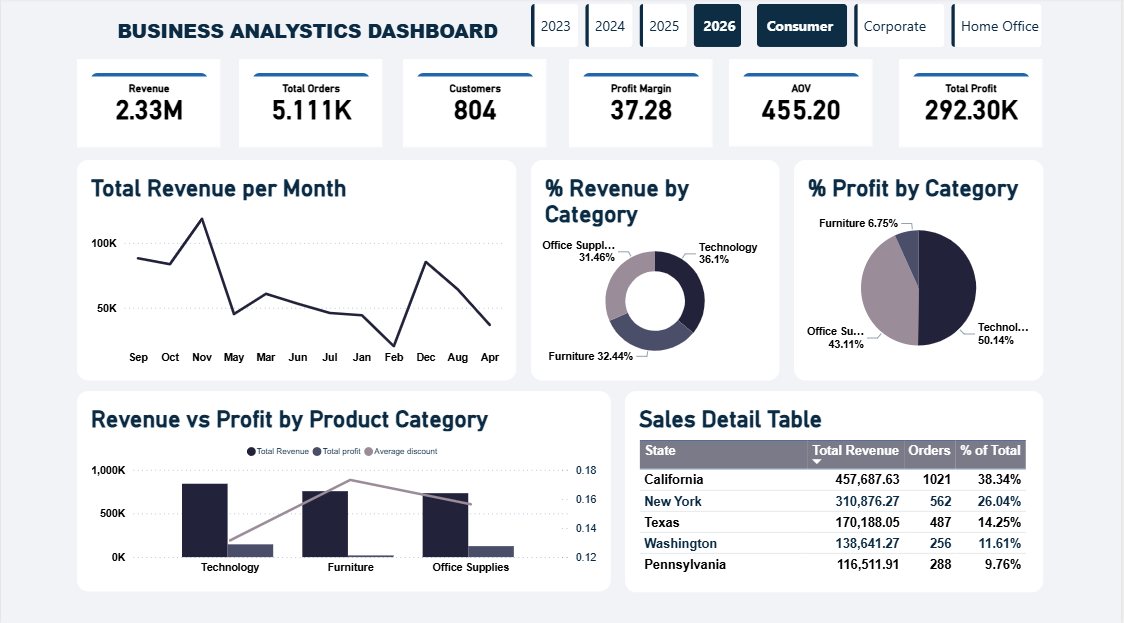

What the dashboard file says about the page in this screenshot:
{"tool":"powerbi","page":{"name":"Page 1","canvas":[1280,720],"ordinal":0},"visuals":[{"type":"cardVisual","fields":{"Data":["Sum(Total Revenue Overview.total_orders)"]},"box":[272,70.6,164.4,100.7],"z":0},{"type":"cardVisual","fields":{"Data":["Sum(Total Revenue Overview.total_customers)"]},"box":[459.5,70.6,164.4,100.7],"z":1000},{"type":"cardVisual","fields":{"Data":["Sum(Total Revenue Overview.total_revenue)"]},"box":[86.8,70.6,164.4,100.7],"z":2000},{"type":"cardVisual","fields":{"Data":["Sum(Total Revenue Overview.avg_order_value)"]},"box":[831.5,70.7,164.5,100.2],"z":3000},{"type":"lineChart","title":"Total Revenue per Month","fields":{"Category":["Sales by Month (Trending).month"],"Y":["Sum(Sales by Month (Trending).monthly_revenue)"]},"box":[86.8,186.4,502.4,252.3],"z":4000},{"type":"pieChart","title":"% Profit by Category","fields":{"Category":["Profitability.category"],"Y":["Sum(Profitability.total_profit)"]},"box":[906.4,186.4,284.8,252.3],"z":5000},{"type":"donutChart","title":"% Revenue by Category","fields":{"Category":["Profitability.category"],"Y":["Sum(Profitability.total_revenue)"]},"box":[605.4,186.4,283.6,252.3],"z":6000},{"type":"tableEx","title":"Sales Detail Table","fields":{"Values":["Sales by Region.state_province","Sum(Sales by Region.total_revenue)","Sum(Sales by Region.order_count)","Divide(Sum(Sales by Region.total_revenue), ScopedEval(Sum(Sales by Region.total_revenue), []))"]},"box":[713.1,450.3,477.7,229.7],"z":7000},{"type":"cardVisual","fields":{"Data":["Sum(Profitability.profit_margin_percent)"]},"box":[649.4,70.6,164.4,100.7],"z":8000},{"type":"lineClusteredColumnComboChart","title":"Revenue vs Profit by Product Category","fields":{"Category":["Profitability.category"],"Y":["Sum(Profitability.total_revenue)","Sum(Profitability.total_profit)"],"Y2":["Sum(Profitability.avg_discount)"]},"box":[86.8,450.3,610,229.2],"z":9000},{"type":"cardVisual","fields":{"Data":["Sum(Profitability.total_profit)"]},"box":[1026.8,70.6,164.4,100.7],"z":10000},{"type":"advancedSlicerVisual","fields":{"Values":["Sales by Month (Trending).year"]},"box":[605.7,8,243.4,49.1],"z":11000},{"type":"advancedSlicerVisual","fields":{"Values":["Sales by Customer Type.segment"]},"box":[864,8,326.9,49.1],"z":12000},{"type":"textbox","box":[129.1,24,442.3,33.1],"z":12001}]}

Visuals, with their boxes in screenshot pixels (x1, y1, x2, y2), scaled from the page's 1280x720 canvas onto the 1124x623 screenshot:
cardVisual - Sum(Total Revenue Overview.total_orders): locate(239, 61, 383, 148)
cardVisual - Sum(Total Revenue Overview.total_customers): locate(403, 61, 548, 148)
cardVisual - Sum(Total Revenue Overview.total_revenue): locate(76, 61, 221, 148)
cardVisual - Sum(Total Revenue Overview.avg_order_value): locate(730, 61, 875, 148)
"Total Revenue per Month" lineChart: locate(76, 161, 517, 380)
"% Profit by Category" pieChart: locate(796, 161, 1046, 380)
"% Revenue by Category" donutChart: locate(532, 161, 781, 380)
"Sales Detail Table" tableEx: locate(626, 390, 1046, 588)
cardVisual - Sum(Profitability.profit_margin_percent): locate(570, 61, 715, 148)
"Revenue vs Profit by Product Category" lineClusteredColumnComboChart: locate(76, 390, 612, 588)
cardVisual - Sum(Profitability.total_profit): locate(902, 61, 1046, 148)
advancedSlicerVisual - Sales by Month (Trending).year: locate(532, 7, 746, 49)
advancedSlicerVisual - Sales by Customer Type.segment: locate(759, 7, 1046, 49)
textbox: locate(113, 21, 502, 49)
